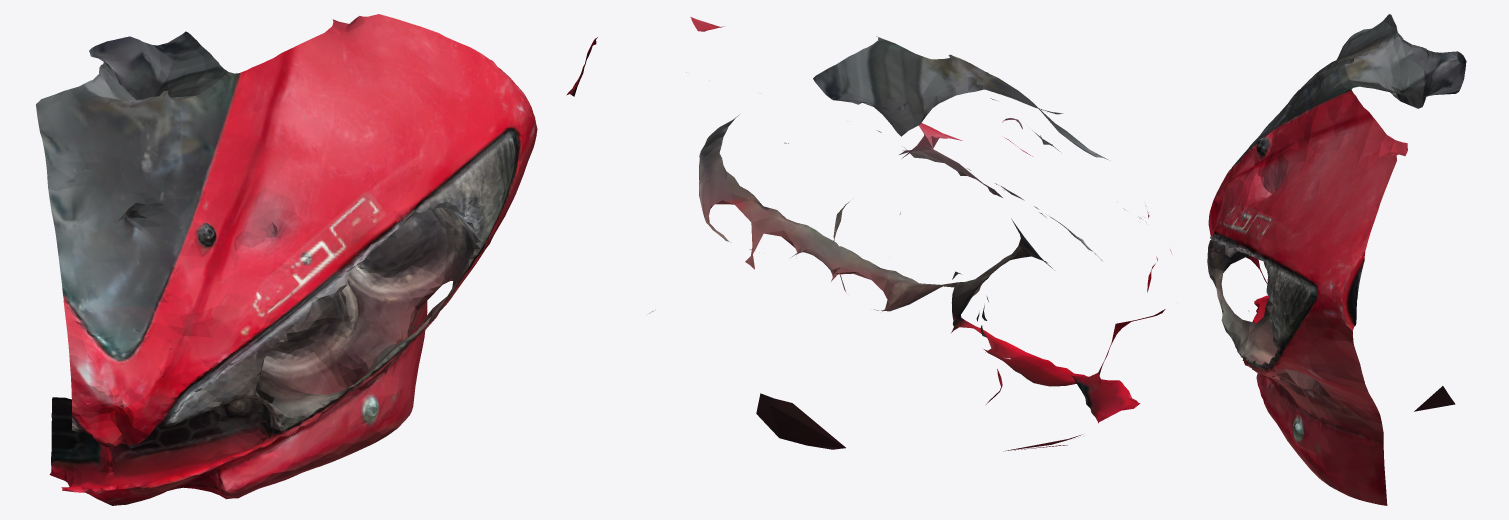
The model's file is R6 headlight .glb.
3 renders of one model, left to right at view 1: azimuth 30°, elevation 25°; view 2: azimuth 150°, elevation 25°; view 3: azimuth 270°, elevation 25°, orthographic. The views are drawn at different scales.
Bounding box in the file's own units: 0.8279 × 0.5705 × 0.4445.
Materials: 1 (1 with a texture image).
